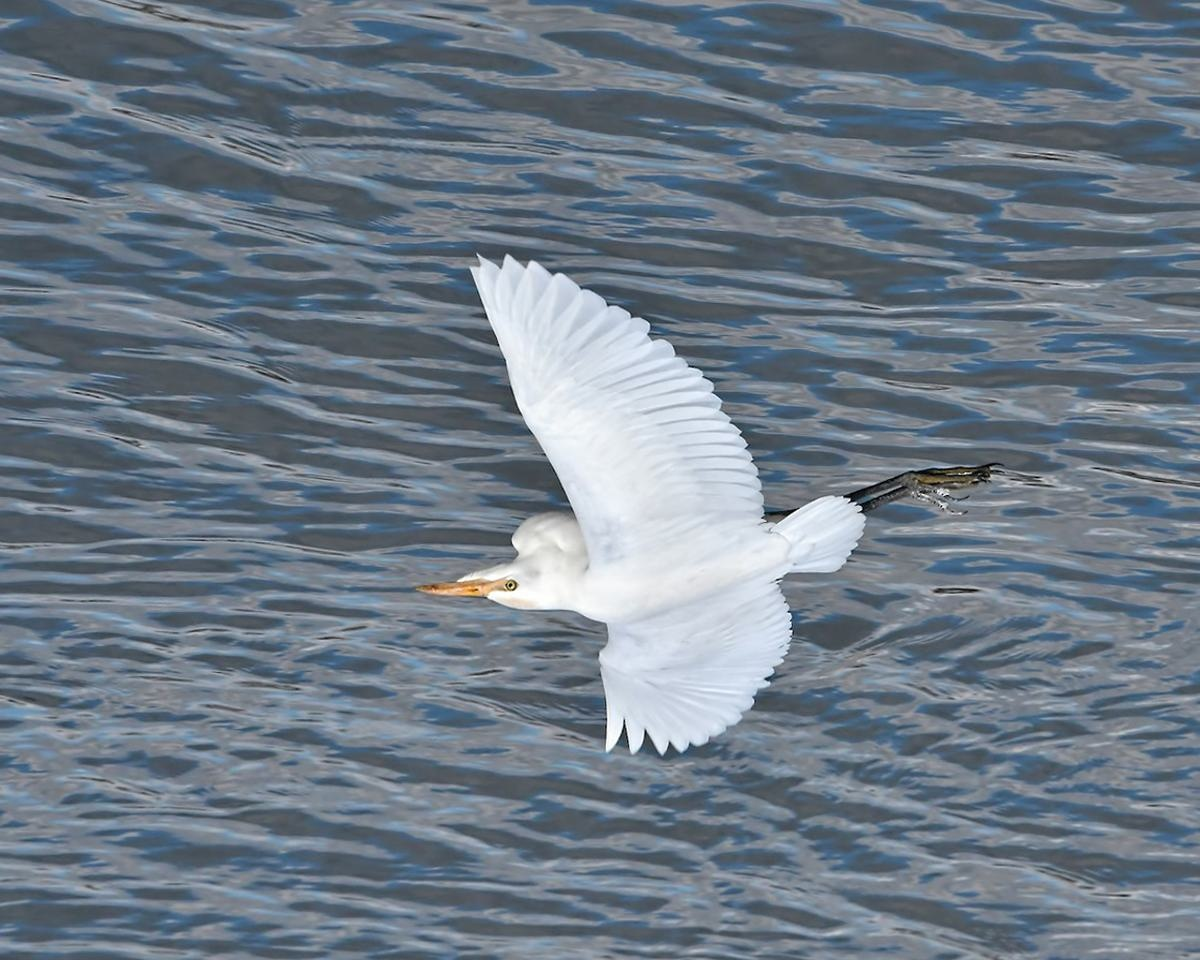egret: (387, 277, 994, 770)
